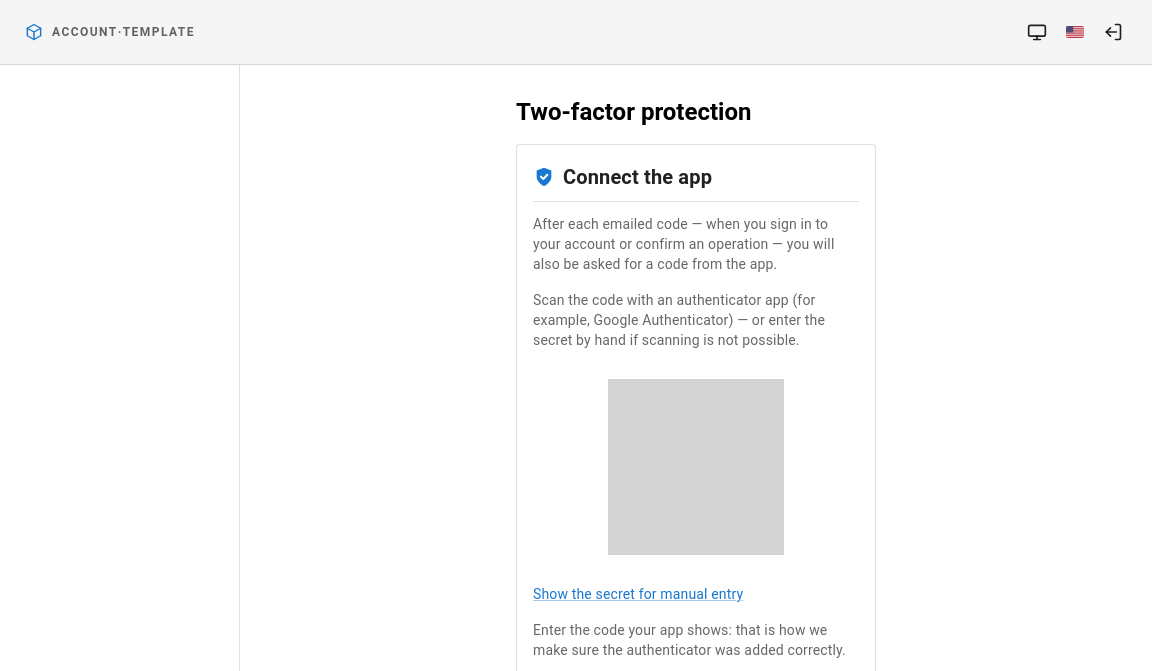
Test: TotpSetupPage › loads the qr at once and the secret only when asked
Click the button "Show the secret for manual entry" at (638, 594), box [533,584,743,604]
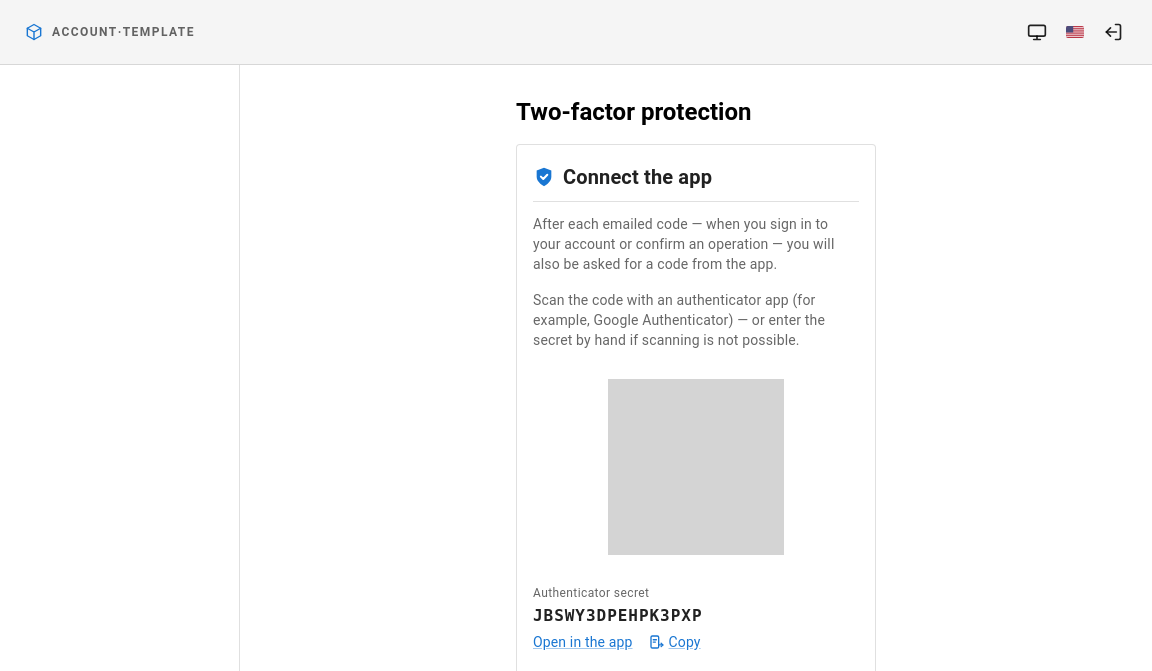
Result: the text "JBSWY3DPEHPK3PXP" is shown at [533,606,702,625]
